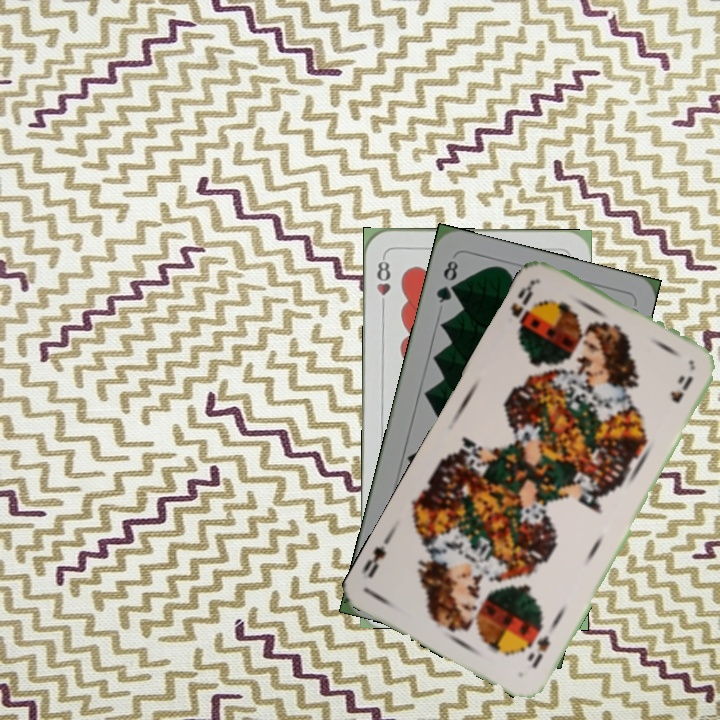G8: (432, 256, 461, 306)
H8: (373, 253, 393, 312)
SO: (506, 277, 542, 337), (523, 630, 553, 671)
